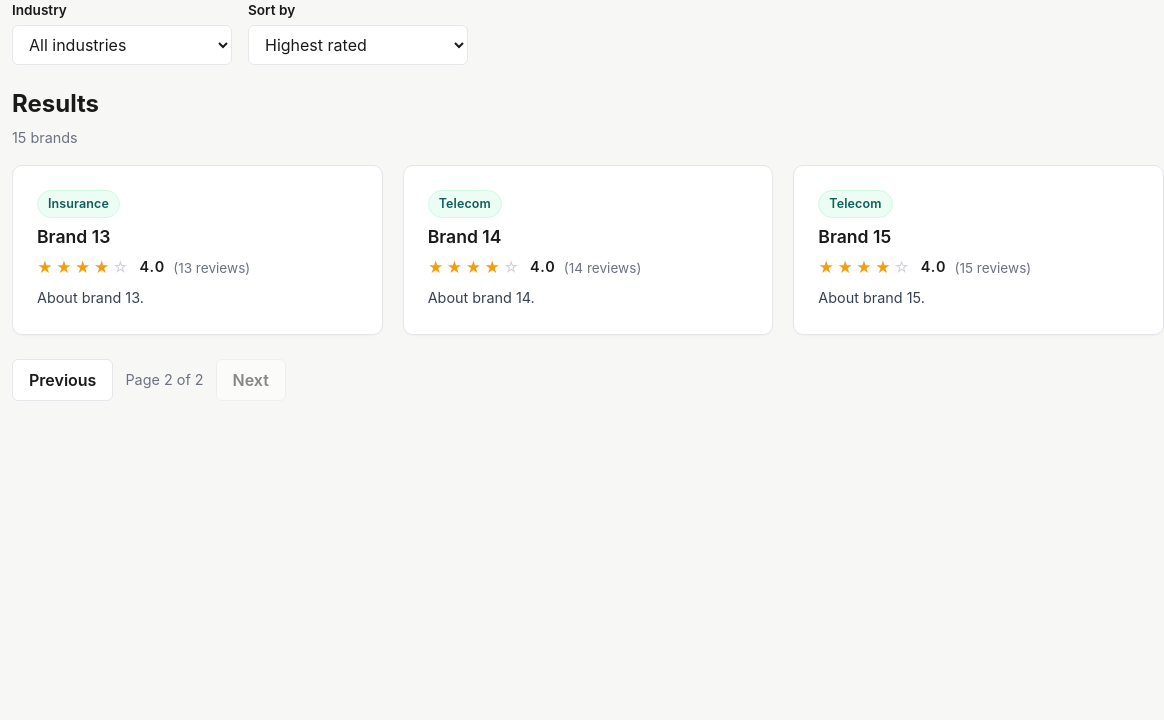
it: filtering, sorting and the URL › changing the industry resets to page 1
Check: the text "Page 2 of 2" is shown, box [125,369,204,391]
Select "Insurance" in the dropdown labelled "Industry": point(122, 45) [12,25,232,65]
(page scrolled)
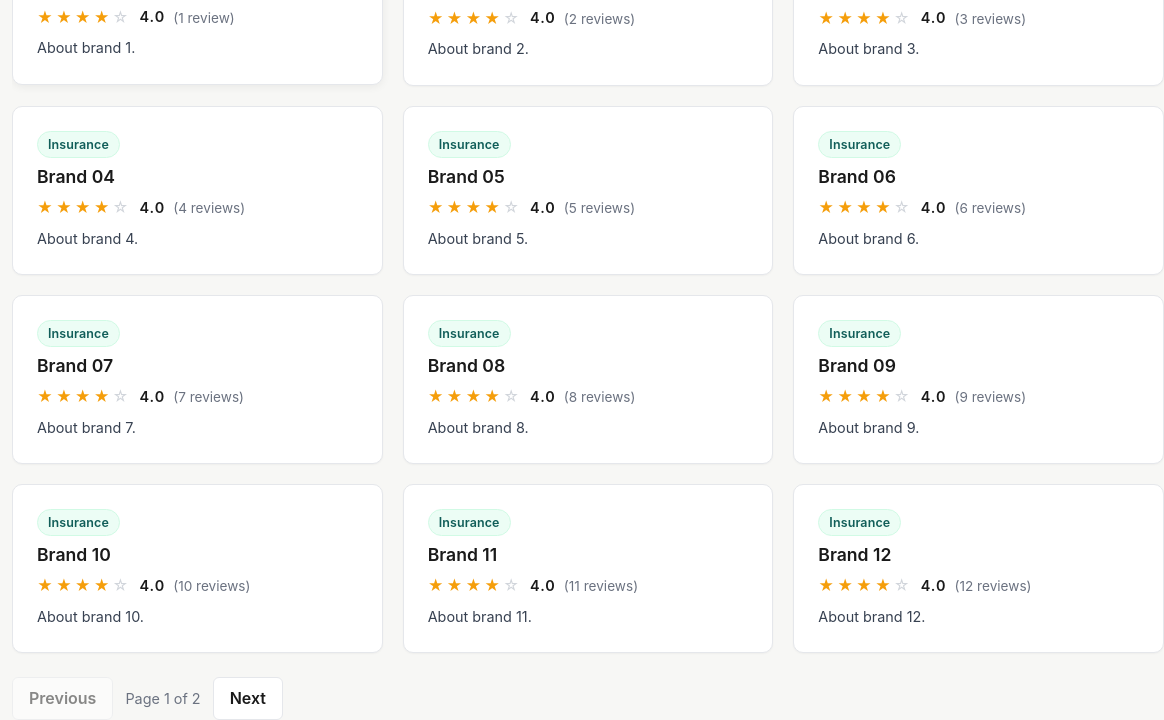
Check: the text "Page 1 of 2" is shown, box [125,688,201,710]
